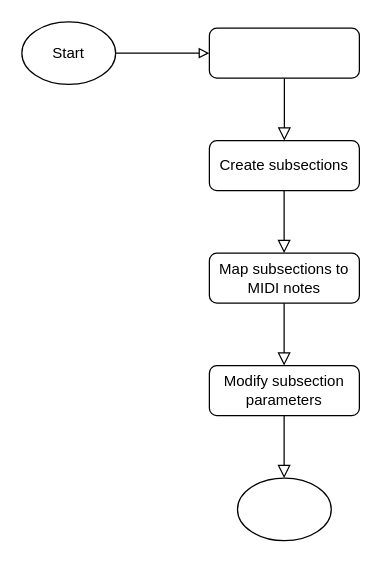
Some shapes in this 381 by 563 pixel diagram are drawn without their labels. The shapes that lost their labels are listed below. From the top down, each one's centre as x and y in pixels, then its label:
(x=283, y=52): Load audio file
(x=283, y=509): End
